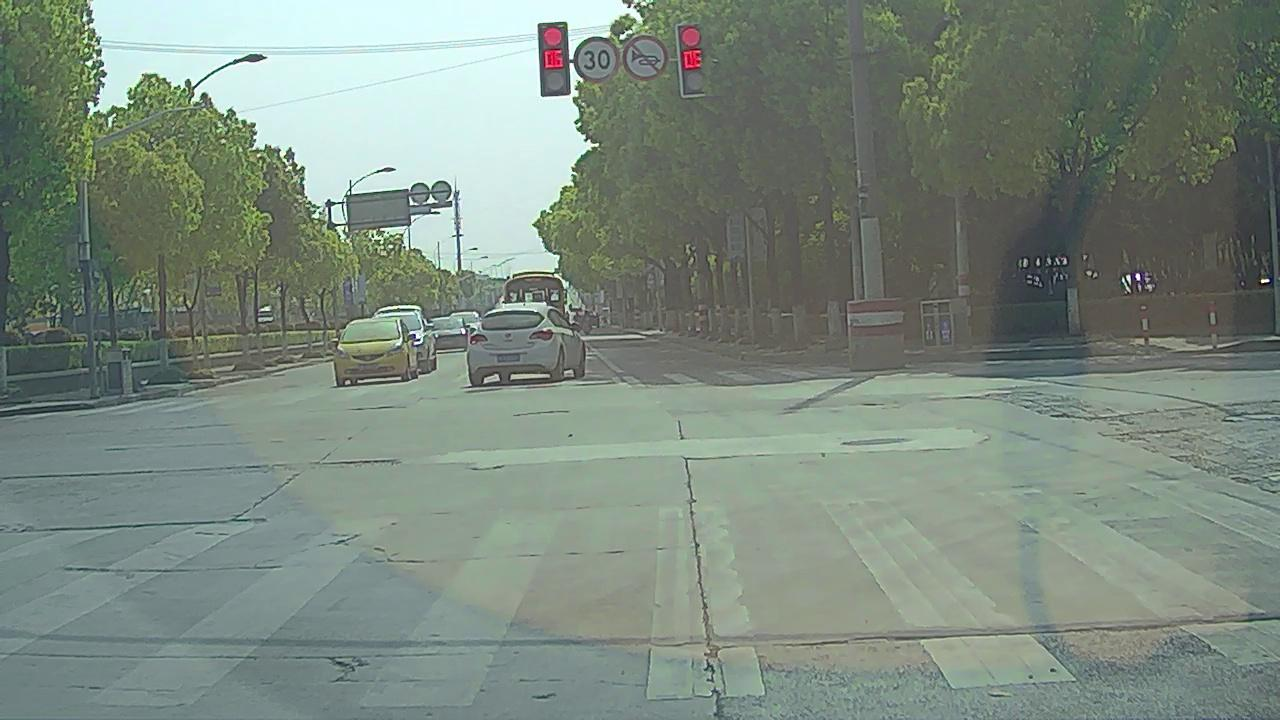traffic_light: (677, 25, 706, 95), (540, 24, 568, 91)
